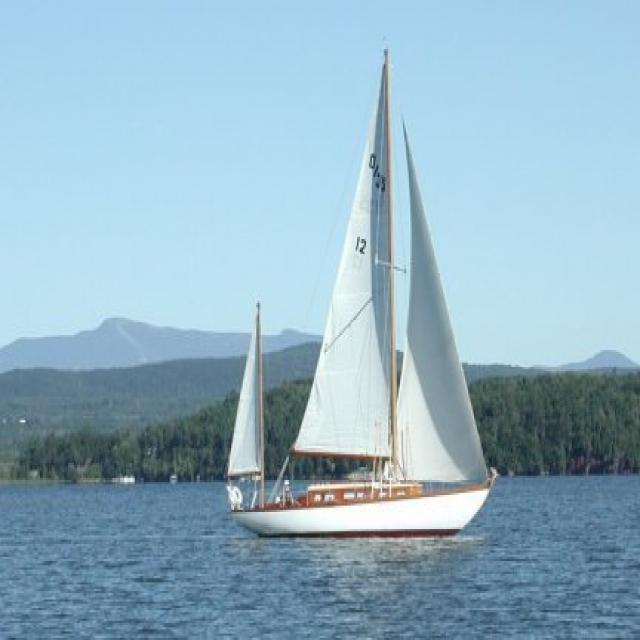Ship: (221, 46, 499, 534)
